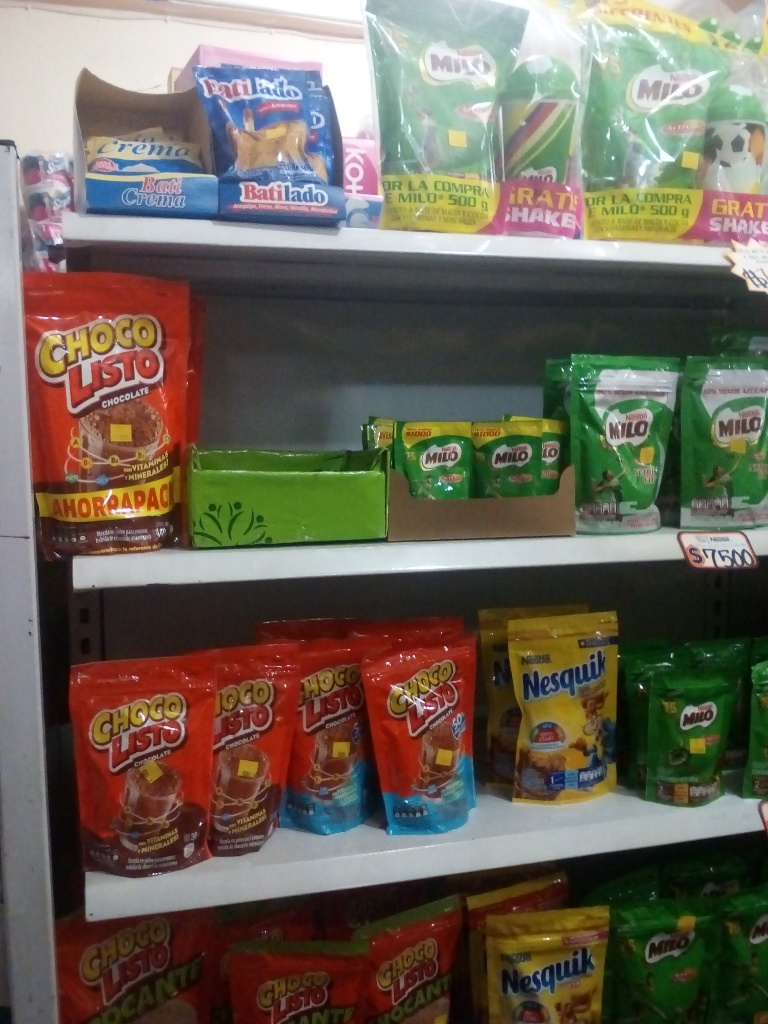COL0170103DYP20000: (70, 656, 216, 866)
COL0170103DYP44000: (19, 266, 198, 555)
COL0170104DYP20000: (272, 622, 376, 841)
COL0170203DYP10000: (632, 656, 739, 809)
COL0170203DYP50000: (372, 3, 508, 229)
COL0170205DYP20000: (562, 363, 687, 529)
COL0170303DYP20000: (504, 613, 626, 806)
